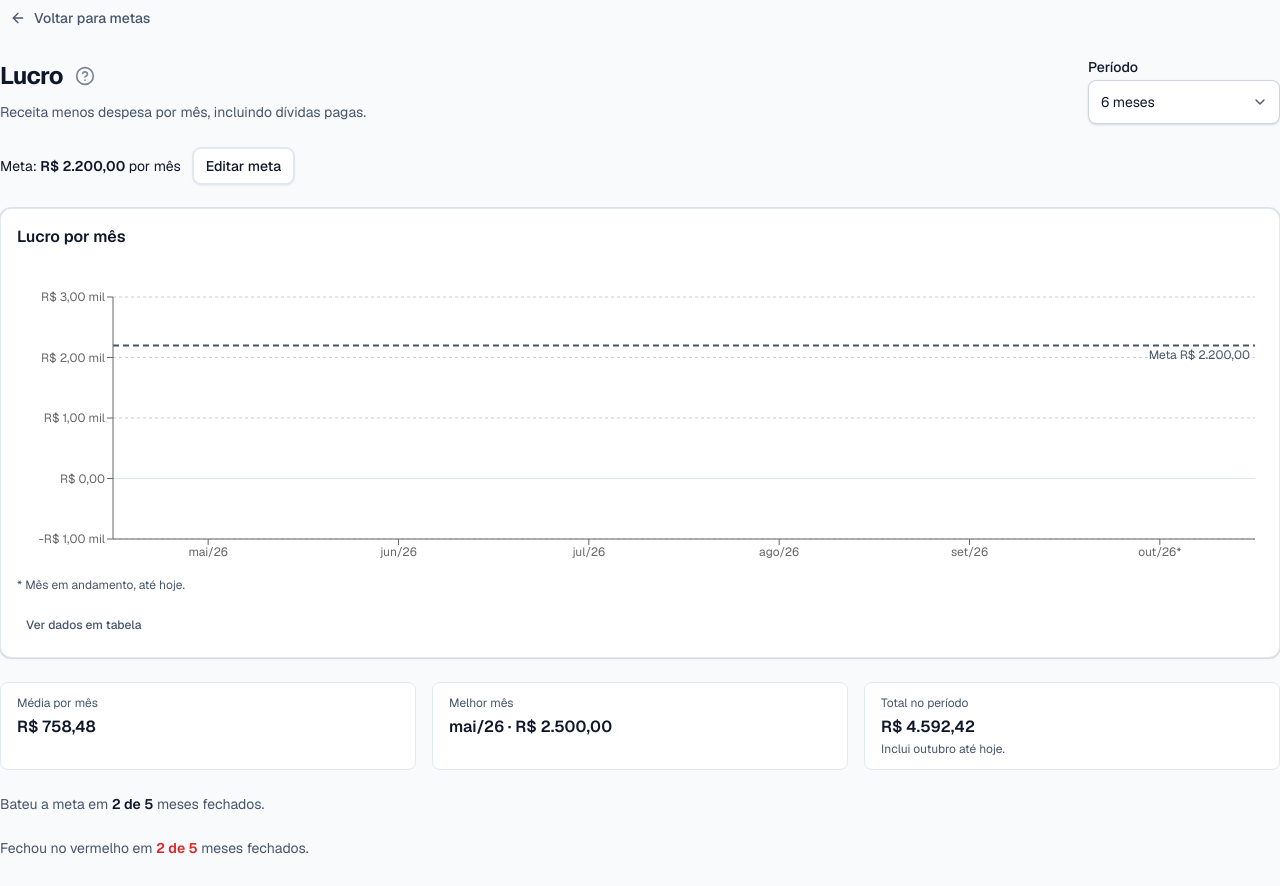
IncomeGoalHistoryPageContent › should edit the goal on the page, keep the other one and recount without fetching
Check: the text "Média por mês" is shown, box [17,695,98,711]
Click the button "Editar meta". click: (243,166)
box: [193,148,294,184]
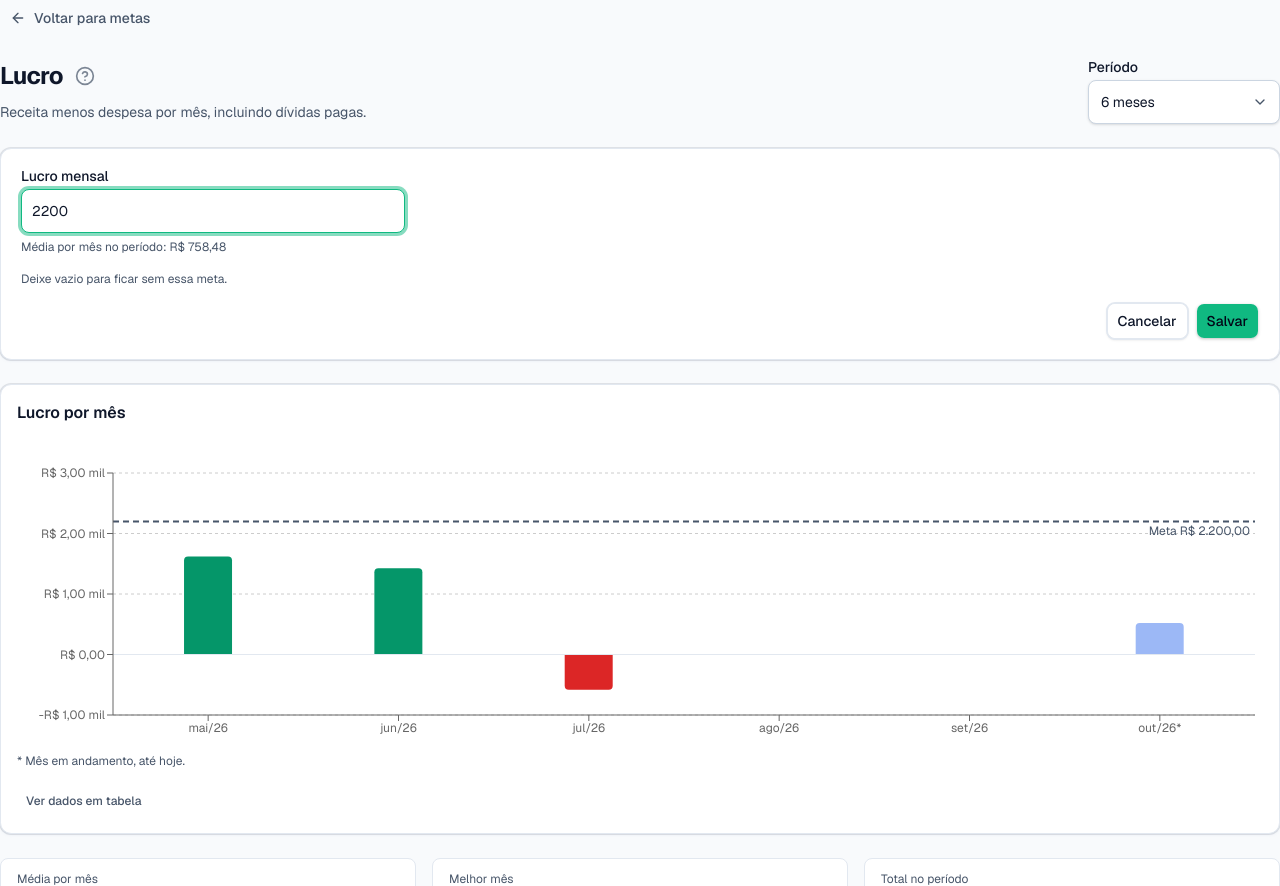
Replace the text in the field labelled "Lucro mensal" with "2400". click: (213,211)
box: [21,189,405,233]
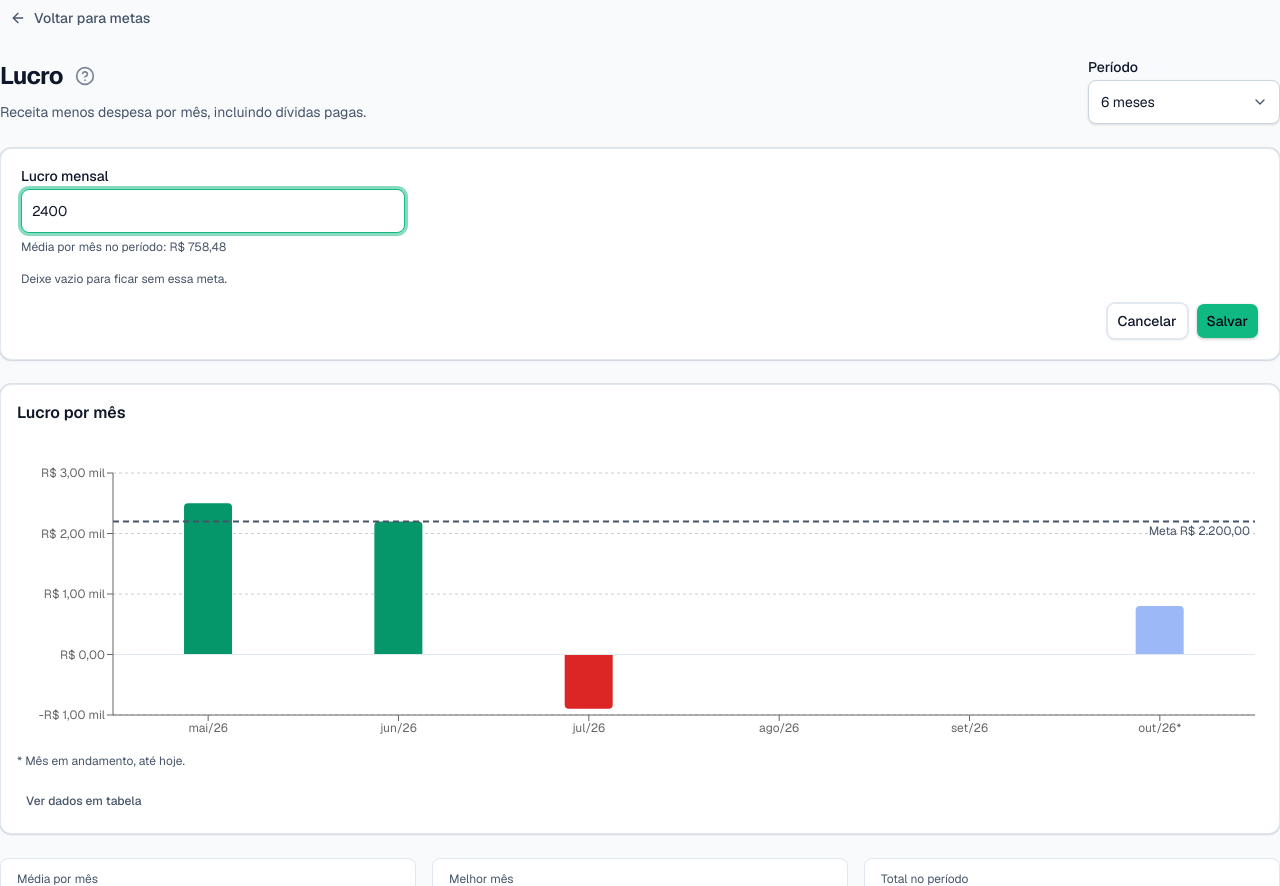
Click the button "Salvar". click: (1227,321)
box: [1196,303,1259,339]
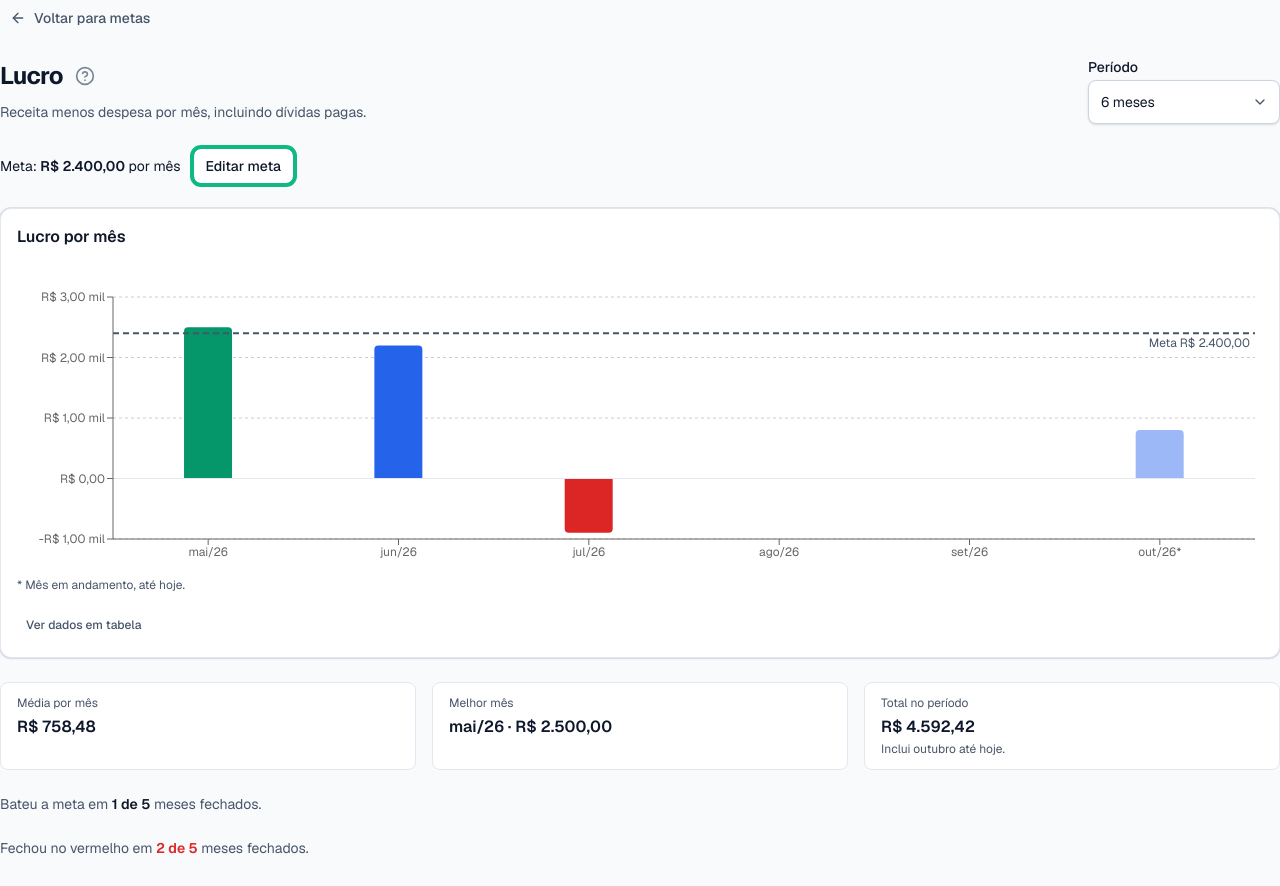
Check: the text "Bateu a meta em 1 de 5 meses fechados." is shown, box [0,795,261,813]
